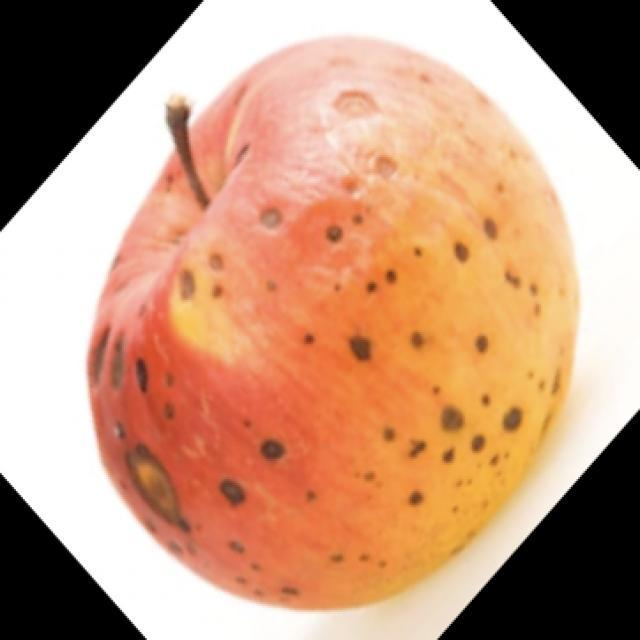Rotten: (89, 28, 578, 585)
